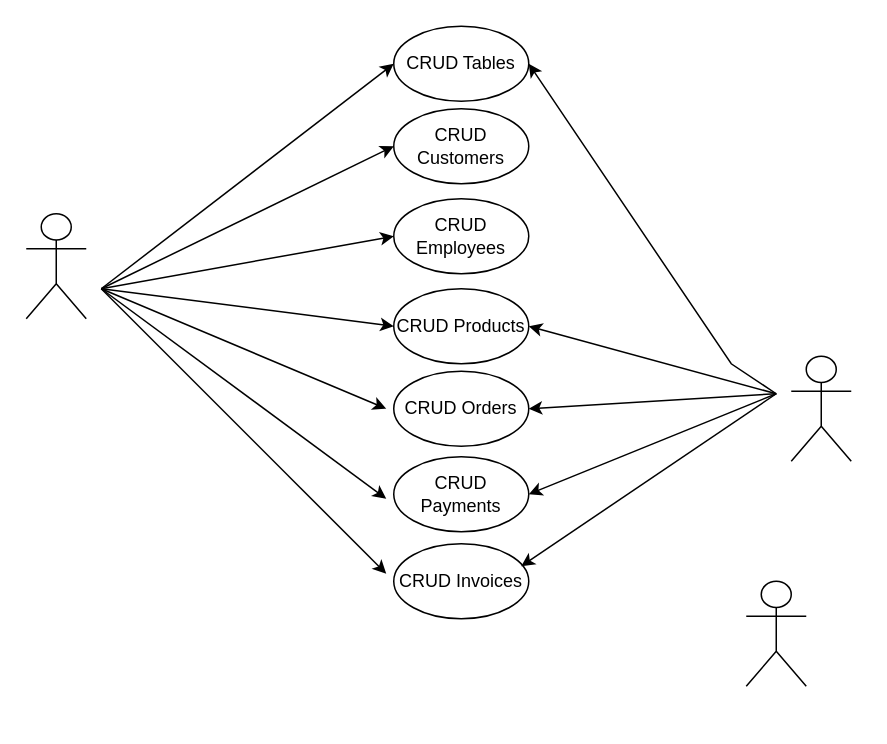
Image size: 887x744. Some labels were removed from this diagram. The centre of each missing label's shape, as x and y in pixels:
Admin: pixel 55 265
Customer: pixel 775 633
Employee: pixel 820 408
